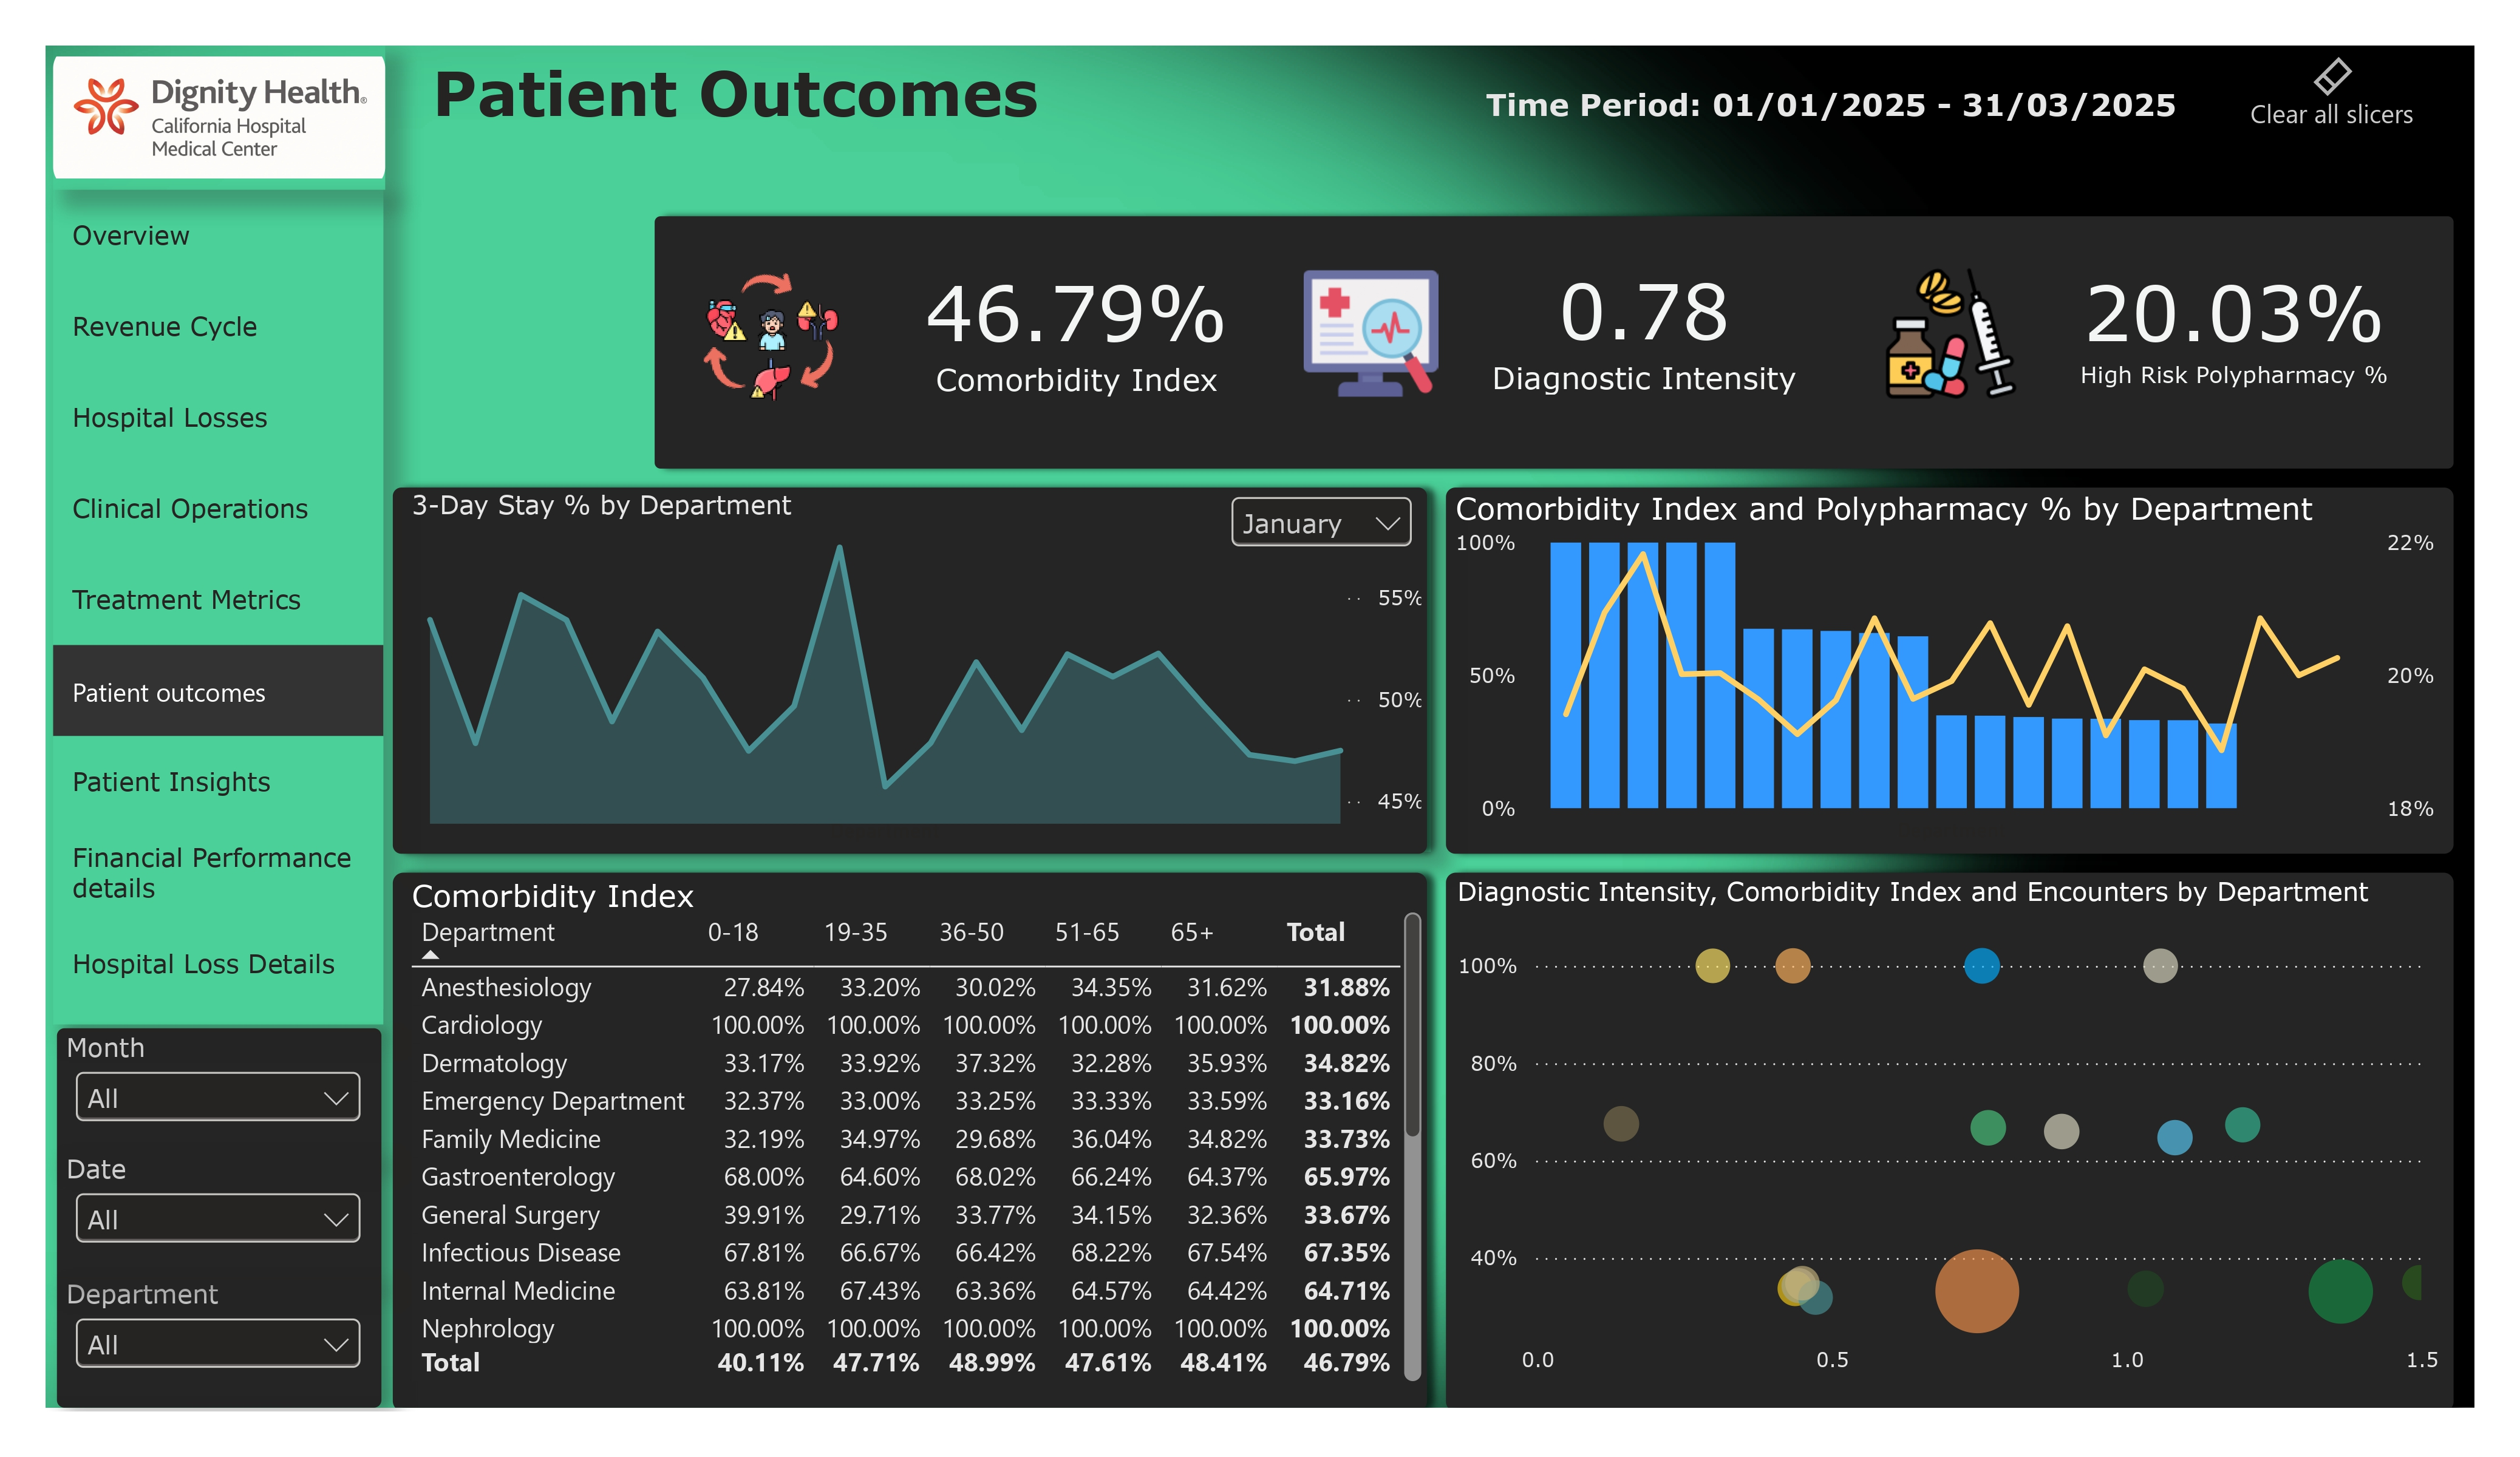

The dashboard page shown, as its layout file describes it:
{"tool":"powerbi","page":{"name":"Patient outcomes","canvas":[1280,720],"ordinal":5},"visuals":[{"type":"pageNavigator","box":[3.8,76.2,174,440],"z":0},{"type":"cardVisual","fields":{"Data":["_Measures.High Risk Polypharmacy %"]},"box":[1043.8,88.8,218.8,135],"z":1000},{"type":"slicer","title":"Department","fields":{"Values":["Encounters.department"]},"box":[6,650.3,170.1,61.5],"z":2000},{"type":"slicer","title":"Month","fields":{"Values":["Calendar.Month Name"]},"box":[6.3,520.3,170,64.1],"z":3000},{"type":"textbox","box":[198.8,0,931.2,53.8],"z":4000},{"type":"cardVisual","fields":{"Data":["_Measures.Diagnostic Intensity"]},"box":[735,87.5,215,135],"z":5000},{"type":"slicer","title":"Date","fields":{"Values":["Encounters.admission_date"]},"box":[6.3,584.4,170,64.1],"z":6000},{"type":"lineChart","title":"3-Day Stay % by Department","fields":{"Category":["Encounters.department"],"Y2":["_Measures.3-Day Stay %"],"Series":["Calendar.Month Name"]},"box":[187.5,233.8,542.5,191.2],"z":7000},{"type":"actionButton","box":[1130,0,150,50],"z":8000},{"type":"slicer","fields":{"Values":["Calendar.Month Name"]},"box":[615,227.5,115,46.2],"z":9000},{"type":"image","box":[3.8,0,175,76.2],"z":10000},{"type":"cardVisual","fields":{"Data":["_Measures.Comorbidity Index"]},"box":[436.2,88.8,215,135],"z":11000},{"type":"lineStackedColumnComboChart","title":"Comorbidity Index and Polypharmacy % by Department","fields":{"Category":["Encounters.department"],"Y":["_Measures.Comorbidity Index"],"Y2":["_Measures.High Risk Polypharmacy %"]},"box":[737.5,233.8,527.5,191.2],"z":12000},{"type":"pivotTable","title":"Comorbidity Index","fields":{"Rows":["Encounters.department"],"Values":["_Measures.Comorbidity Index"],"Columns":["Patients.Age Group"]},"box":[187.5,437.5,542.5,271.2],"z":13000},{"type":"scatterChart","fields":{"X":["_Measures.Diagnostic Intensity"],"Y":["_Measures.Comorbidity Index"],"Size":["_Measures.Total Encounters"],"Series":["Encounters.department"]},"box":[738.8,437.5,527.5,271.2],"z":14000}]}

Visuals, with their boxes on the page's 1280x720 design canvas (x1, y1, x2, y2). These are canvas units, not pixel positions in the 2520x1457 screenshot, which may show the page scaled, cropped or inside an application window:
pageNavigator: <bbox>4, 76, 178, 516</bbox>
cardVisual - _Measures.High Risk Polypharmacy %: <bbox>1044, 89, 1263, 224</bbox>
"Department" slicer: <bbox>6, 650, 176, 712</bbox>
"Month" slicer: <bbox>6, 520, 176, 584</bbox>
textbox: <bbox>199, 0, 1130, 54</bbox>
cardVisual - _Measures.Diagnostic Intensity: <bbox>735, 88, 950, 222</bbox>
"Date" slicer: <bbox>6, 584, 176, 648</bbox>
"3-Day Stay % by Department" lineChart: <bbox>188, 234, 730, 425</bbox>
actionButton: <bbox>1130, 0, 1280, 50</bbox>
slicer - Calendar.Month Name: <bbox>615, 228, 730, 274</bbox>
image: <bbox>4, 0, 179, 76</bbox>
cardVisual - _Measures.Comorbidity Index: <bbox>436, 89, 651, 224</bbox>
"Comorbidity Index and Polypharmacy % by Department" lineStackedColumnComboChart: <bbox>738, 234, 1265, 425</bbox>
"Comorbidity Index" pivotTable: <bbox>188, 438, 730, 709</bbox>
scatterChart - _Measures.Diagnostic Intensity x _Measures.Comorbidity Index: <bbox>739, 438, 1266, 709</bbox>
